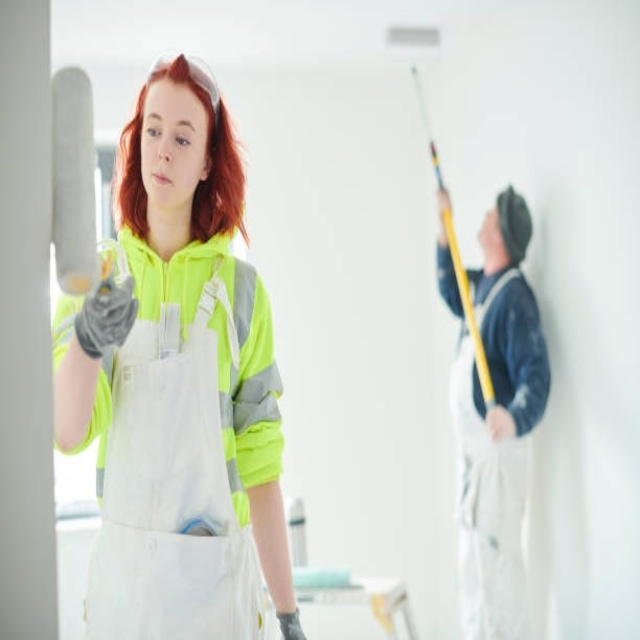Guantes: (74, 271, 140, 361), (276, 606, 309, 639)
Sin_gafas: (142, 105, 197, 152)
Sin_mascara: (144, 165, 178, 201)
